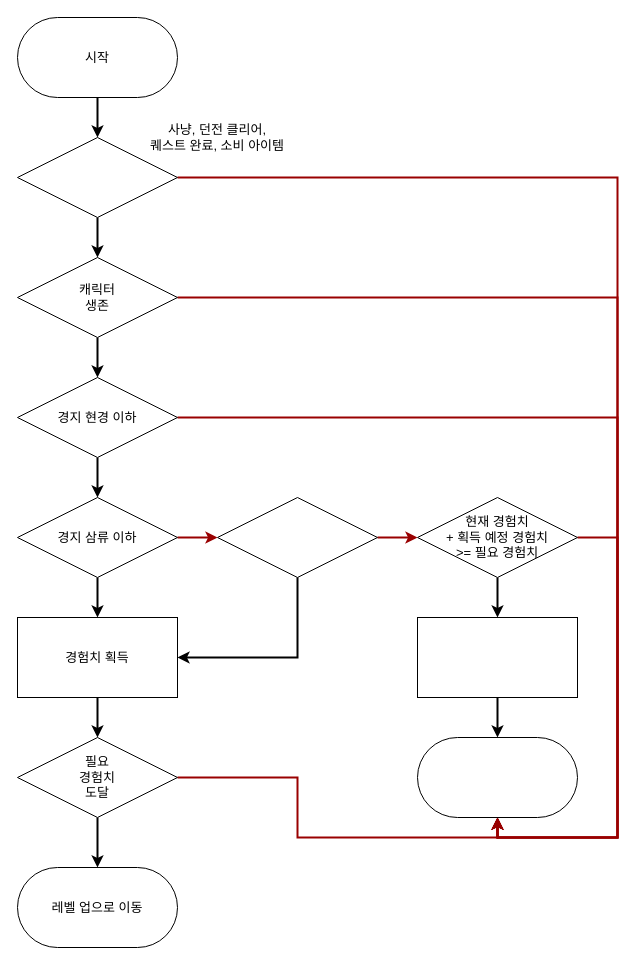
Some shapes in this 644 by 965 pixel diagram are drawn without their labels. Here are the shapes that lost their labels. From the top down, the centre of each, then its label:
pixel 97 177: 경험치 획득 이벤트 발생
pixel 297 537: 모든 능력치 한계치 도달
pixel 497 657: (0.99)필요 경험치 - 현재 경험치 만큼 경험치 획득
pixel 497 777: 종료
